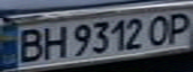1: (109, 16, 130, 53)
2: (124, 15, 148, 51)
3: (90, 18, 112, 56)
9: (66, 20, 93, 60)
B: (12, 26, 48, 64)
H: (36, 24, 69, 61)
O: (145, 12, 175, 47)
P: (160, 10, 193, 45)
